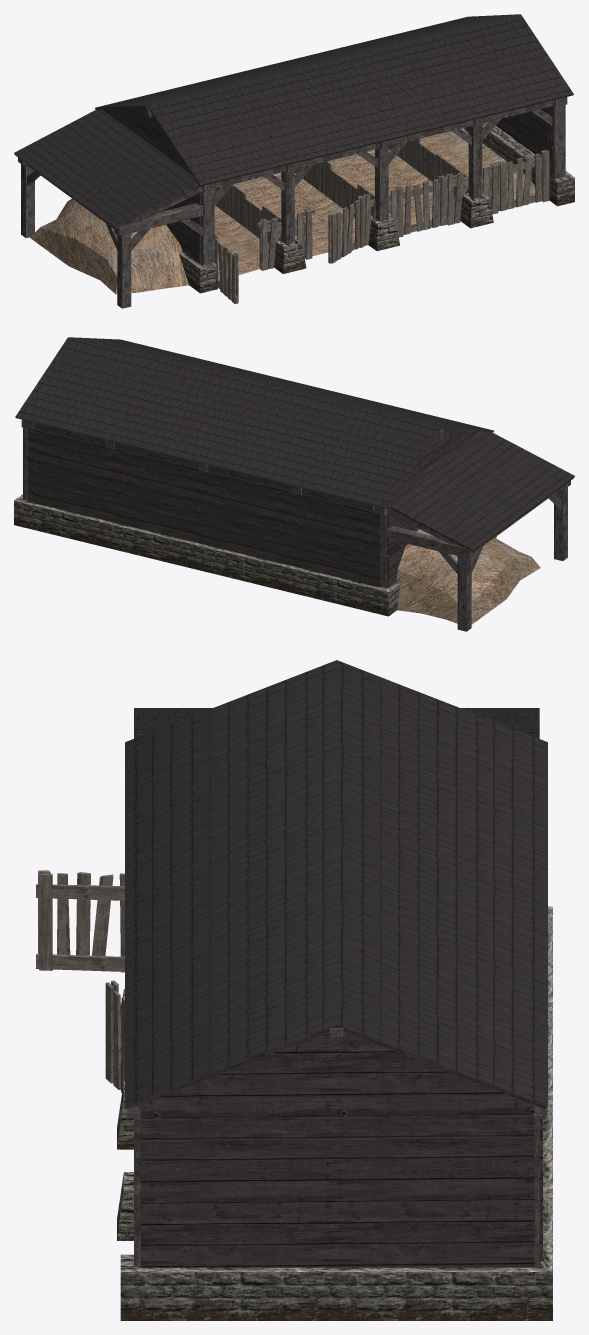
The model's file is poorfolks_stables.FBX.
The picture shows the model from 3 angles, top to bottom: view 1: azimuth 30°, elevation 25°; view 2: azimuth 150°, elevation 25°; view 3: azimuth 270°, elevation 25°; orthographic projection. The views are drawn at different scales.
Visible parts, largest first — view 1: poorfolks_stables_attached; view 2: poorfolks_stables_attached; view 3: poorfolks_stables_attached.
Boxes of the visible parts, <box> form: poorfolks_stables_attached: <box>14,14,574,308</box>; poorfolks_stables_attached: <box>14,337,574,631</box>; poorfolks_stables_attached: <box>36,660,552,1320</box>.
Bounding box in the file's own units: 1249 × 612 × 388.
